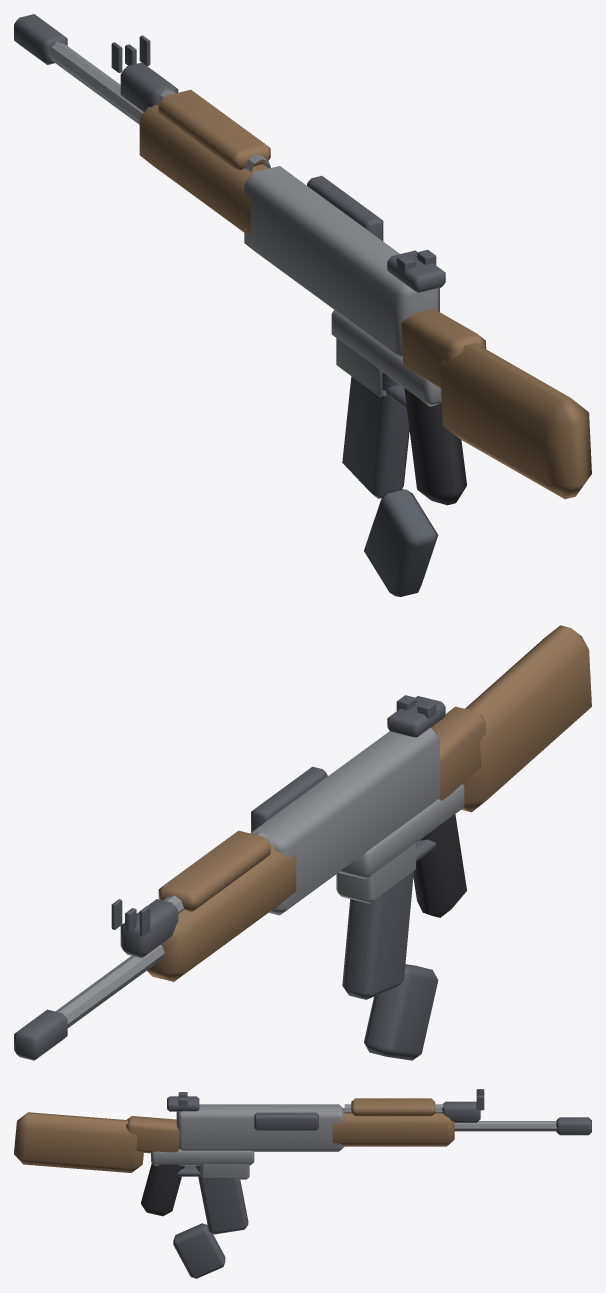
Rendered from rifle.glb.
3 views of the same model, one above another, from view 1: azimuth 30°, elevation 25°; view 2: azimuth 150°, elevation 25°; view 3: azimuth 270°, elevation 25° (orthographic). The views are drawn at different scales.
Visible parts, largest first — view 1: body, mag, bolt; view 2: body, mag, bolt; view 3: body, mag, bolt.
Boxes of the visible parts, <box> form: body: <box>14,14,591,596</box>; mag: <box>342,372,409,498</box>; bolt: <box>307,175,383,241</box>; body: <box>14,625,591,1060</box>; mag: <box>342,843,416,999</box>; bolt: <box>251,766,327,832</box>; body: <box>14,1089,591,1278</box>; mag: <box>196,1165,248,1234</box>; bolt: <box>254,1112,318,1130</box>.
Size of the model in its own units: 0.057 by 0.3138 by 0.8944.
